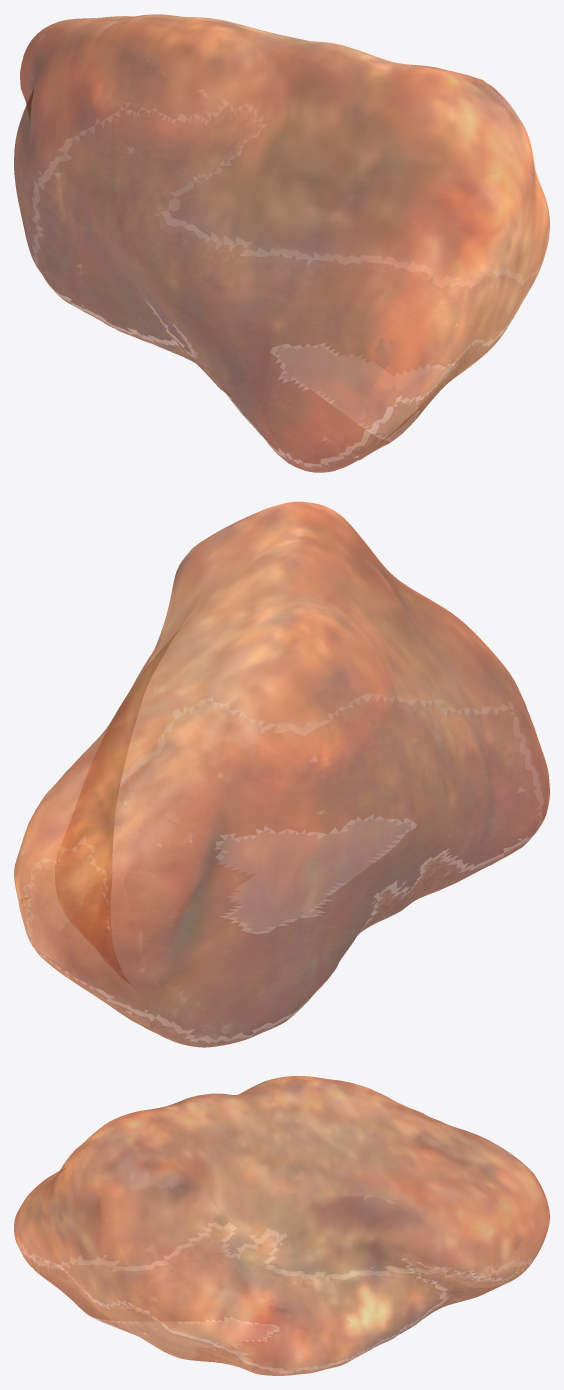
File: sibur.glb
3 renders of one model, top to bottom at view 1: azimuth 30°, elevation 25°; view 2: azimuth 150°, elevation 25°; view 3: azimuth 270°, elevation 25°, orthographic. The views are drawn at different scales.
Visible parts, largest first — view 1: Object_2; view 2: Object_2; view 3: Object_2.
Boxes of the visible parts, left/top/right/bottom form: Object_2: left=14, top=14, right=549, bottom=472; Object_2: left=14, top=501, right=549, bottom=1047; Object_2: left=14, top=1076, right=549, bottom=1375.
Size of the model in its own units: 35.36 by 32.55 by 67.56.
Materials: 1 (1 with a texture image).
